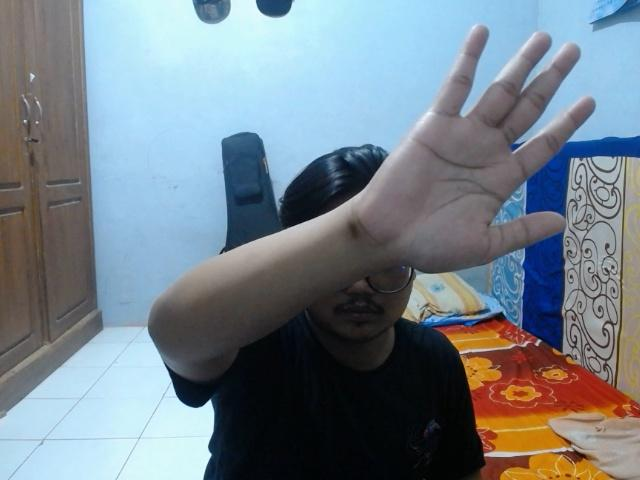Release: (346, 15, 600, 279)
